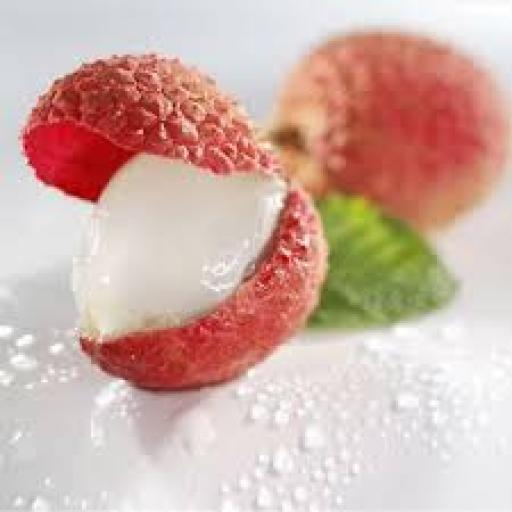lychee: (23, 55, 325, 389), (274, 32, 509, 229)
